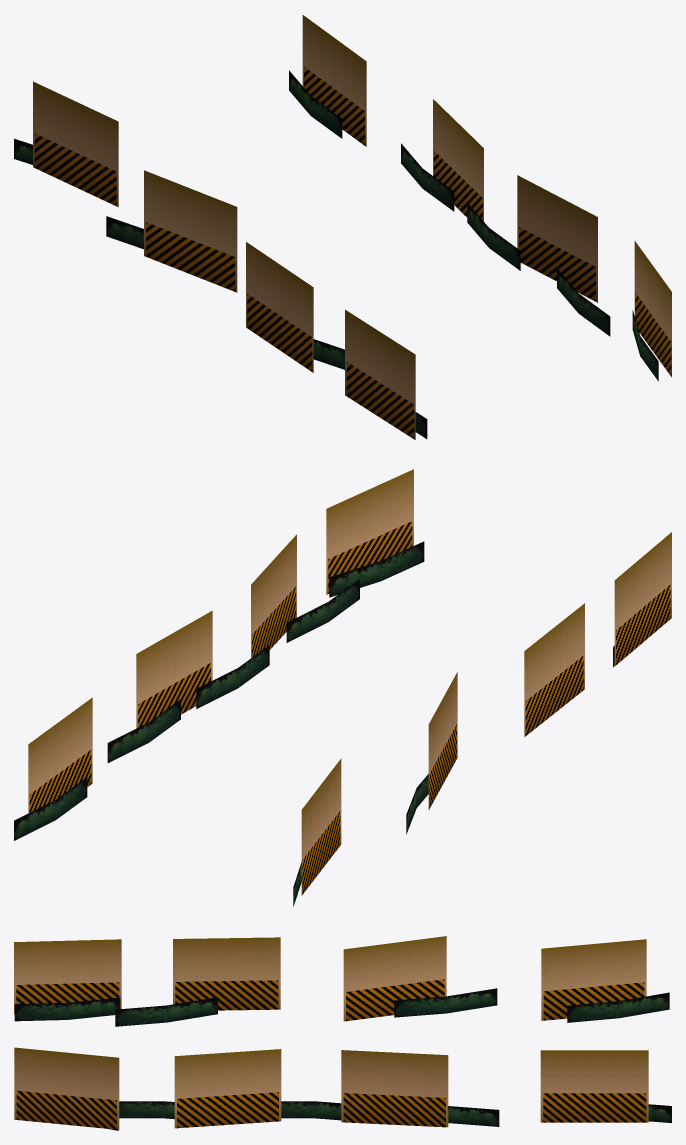
3 renders of one model, top to bottom at view 1: azimuth 30°, elevation 25°; view 2: azimuth 150°, elevation 25°; view 3: azimuth 270°, elevation 25°, orthographic. The views are drawn at different scales.
Parts seen in each view (by area): view 1: b, c, a, d; view 2: d, b, c, a; view 3: b, c, a, d.
Boxes of the visible parts, bbox=[...] form: b: bbox=[106, 99, 520, 292]; c: bbox=[246, 175, 610, 372]; a: bbox=[14, 15, 366, 207]; d: bbox=[345, 241, 671, 439]; d: bbox=[326, 469, 671, 667]; b: bbox=[107, 610, 457, 834]; c: bbox=[251, 534, 584, 736]; a: bbox=[14, 697, 341, 906]; b: bbox=[281, 936, 499, 1127]; c: bbox=[115, 937, 281, 1128]; a: bbox=[540, 939, 671, 1122]; d: bbox=[14, 939, 121, 1130].
Size of the model in its own units: 41.65 by 11.54 by 92.74.
16 materials, 16 textured.
